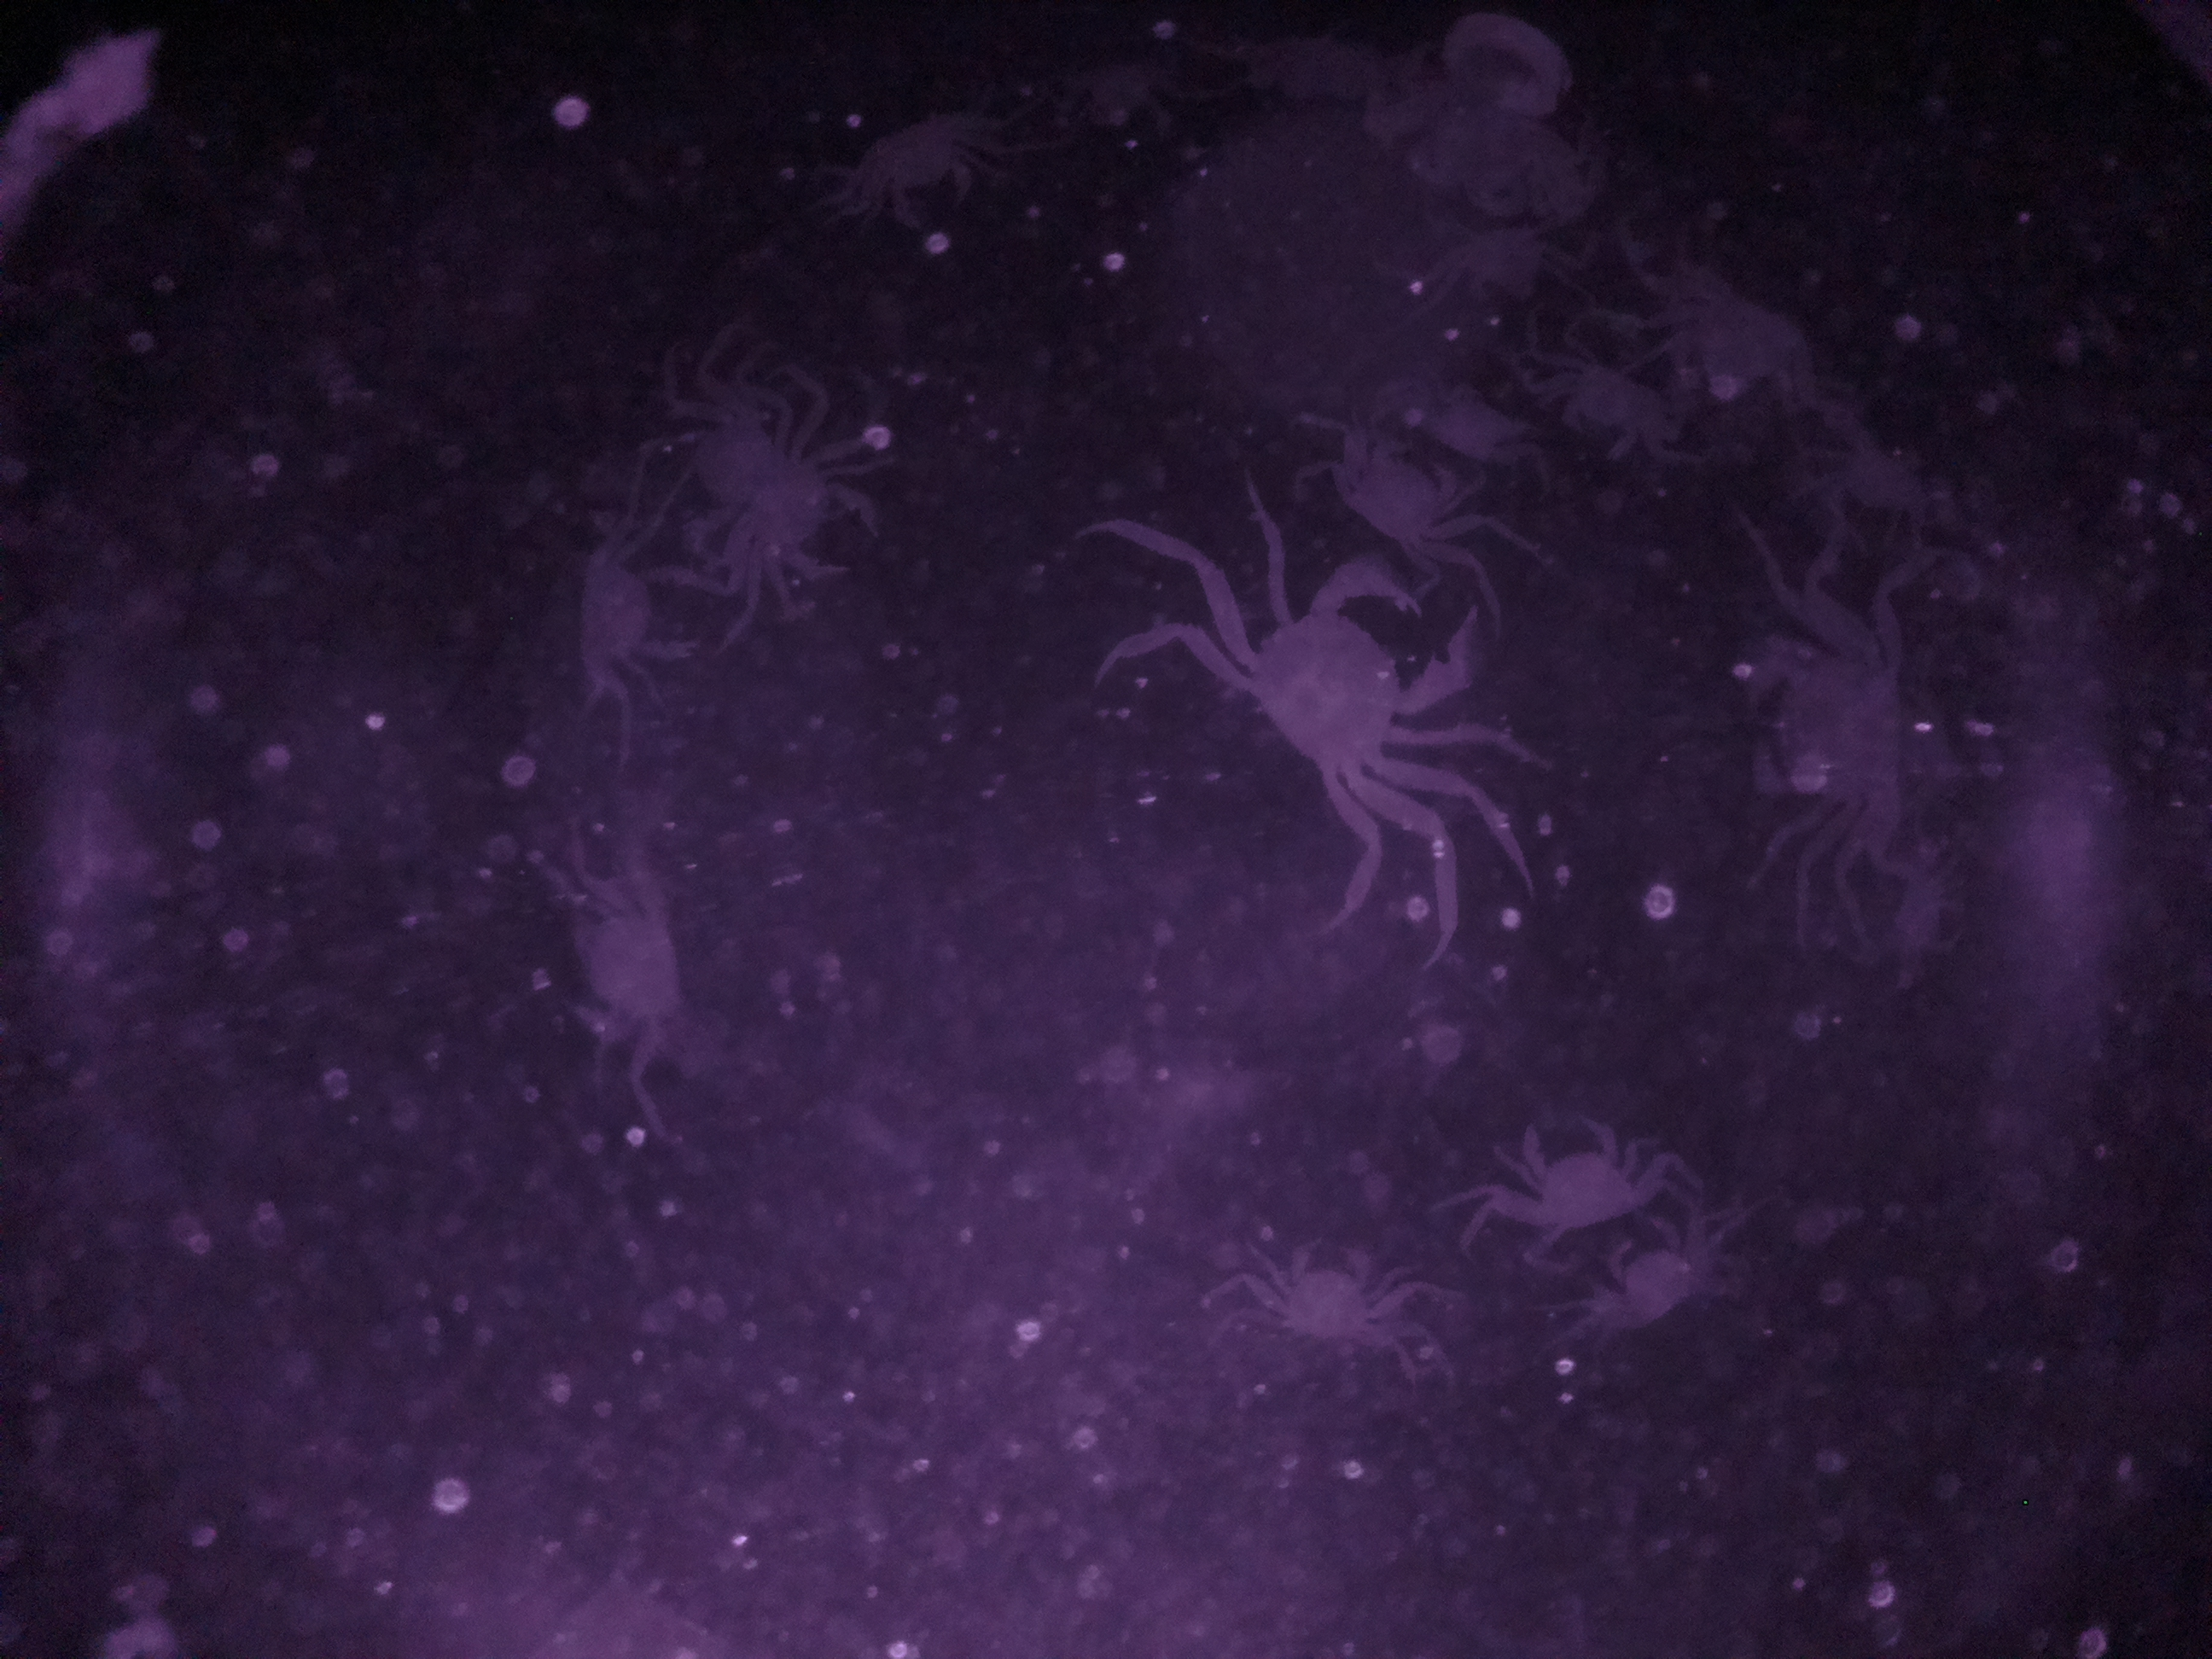Crab: (1217, 559, 1486, 817), (1730, 598, 1935, 857), (707, 423, 902, 606), (1308, 406, 1512, 573), (561, 500, 702, 699), (1500, 1105, 1660, 1258), (834, 105, 1012, 232), (1249, 1225, 1402, 1366)
